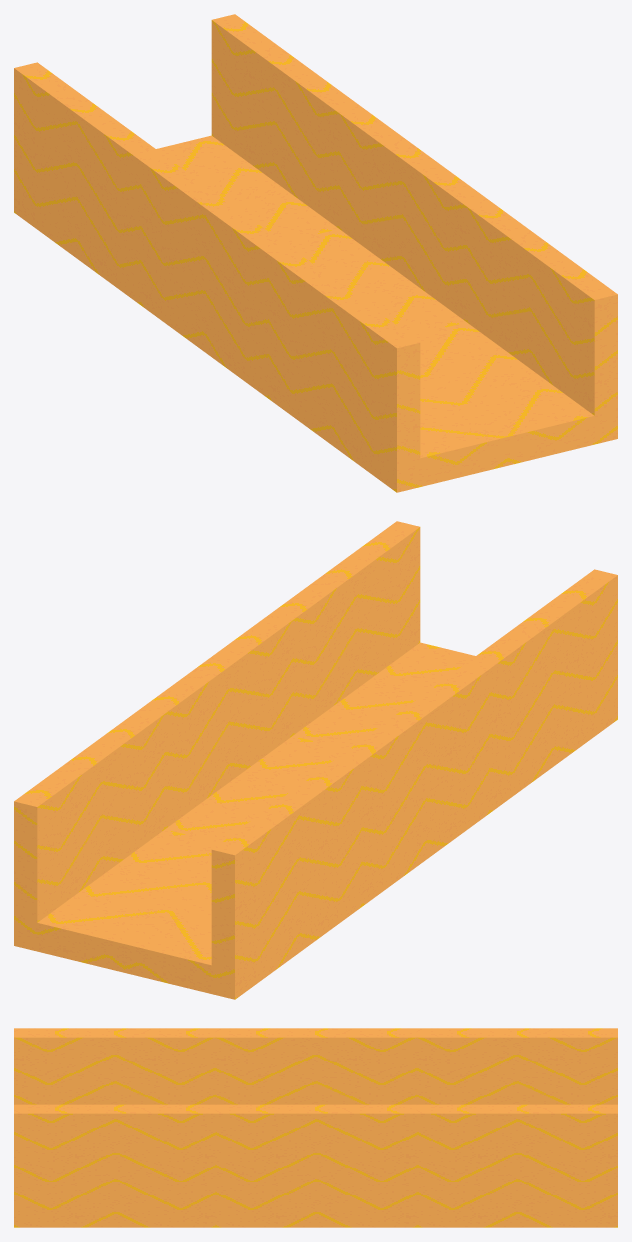
File: rampLong.glb
3 renders of one model, top to bottom at view 1: azimuth 30°, elevation 25°; view 2: azimuth 150°, elevation 25°; view 3: azimuth 270°, elevation 25°, orthographic. The views are drawn at different scales.
Visible parts, largest first — view 1: rampLong; view 2: rampLong; view 3: rampLong.
Boxes of the visible parts, x1=… form: rampLong: x1=14, y1=14, x2=617, y2=492; rampLong: x1=14, y1=521, x2=617, y2=999; rampLong: x1=14, y1=1028, x2=617, y2=1227.
Size of the model in its own units: 0.5 by 0.3122 by 1.5.
Materials: 1 (1 with a texture image).
